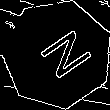N_SW: (25, 23, 90, 85)
